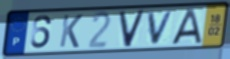2: (87, 10, 114, 50)
6: (30, 14, 54, 51)
A: (170, 7, 203, 46)
K: (58, 13, 85, 49)
V: (117, 9, 146, 49), (147, 9, 176, 46)
